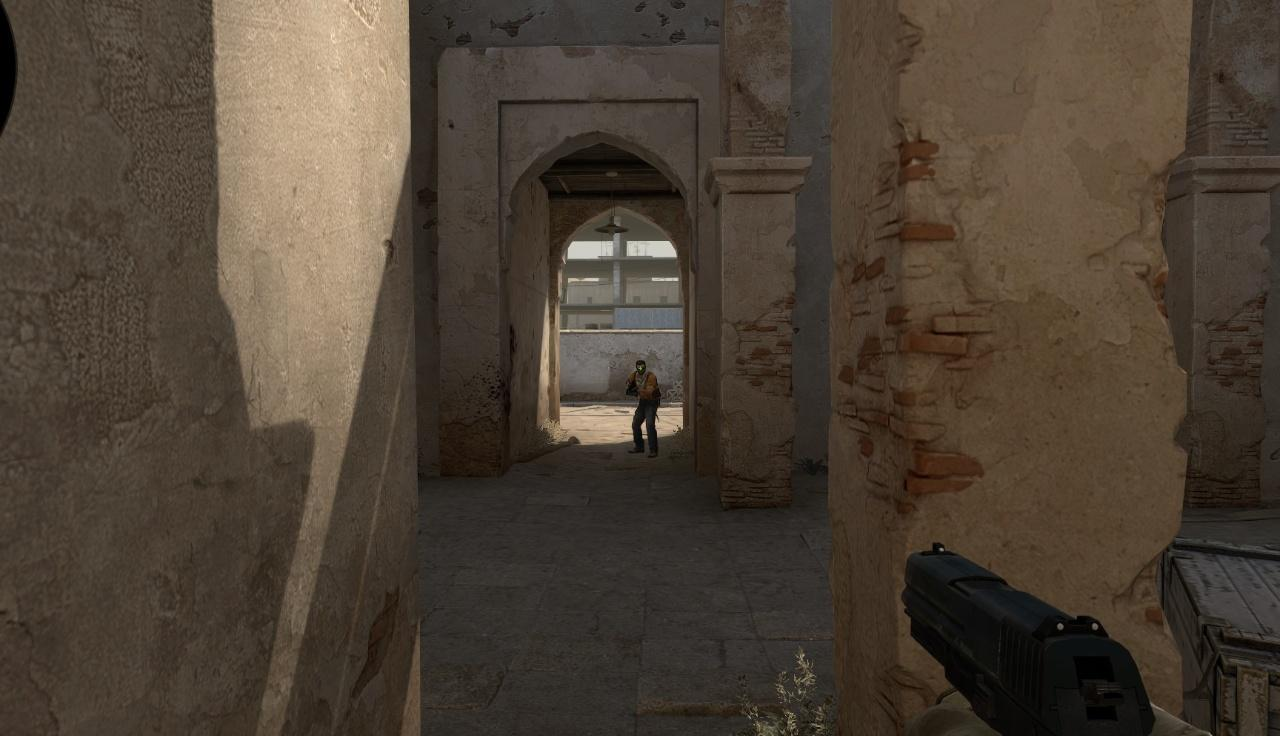pistol: (901, 545, 1156, 736)
tt: (632, 360, 657, 456)
tthead: (636, 361, 647, 373)
